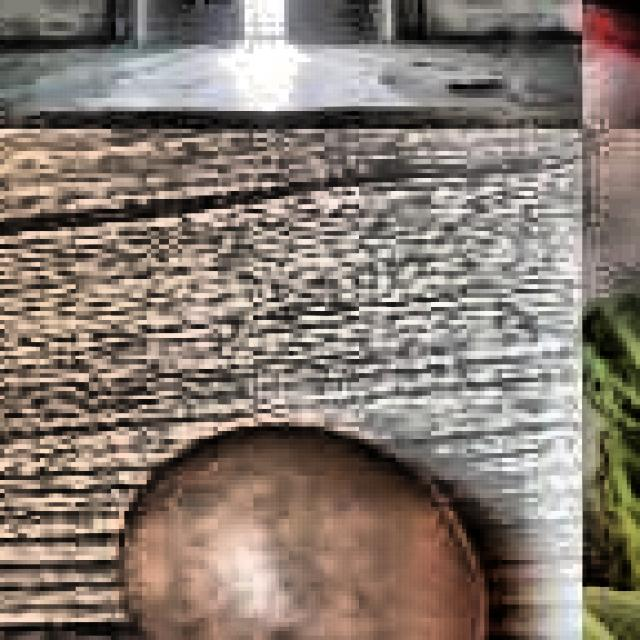egg: (89, 409, 511, 640)
